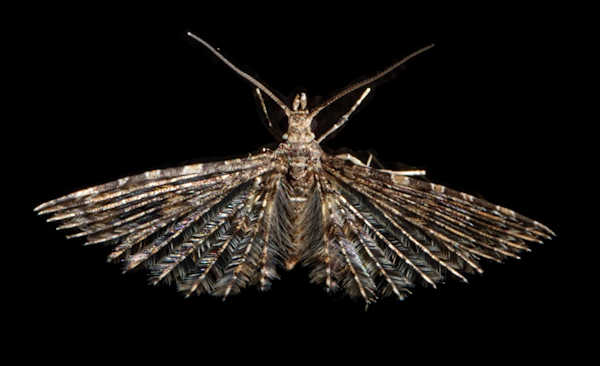Alucitidae: (34, 25, 569, 310)
moth: (32, 23, 567, 308)
